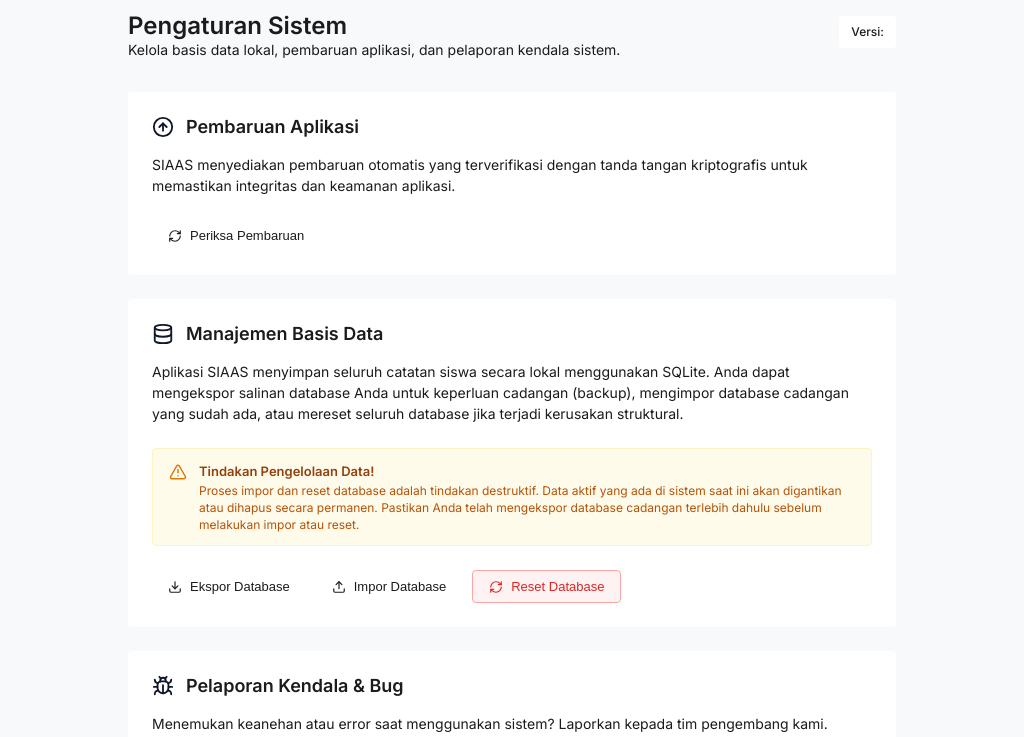
Test case: PengaturanView › shows error alert if database export fails in Tauri
Click the button with test id "export-db-button" at (229, 587), box left=152, top=570, right=306, bottom=603
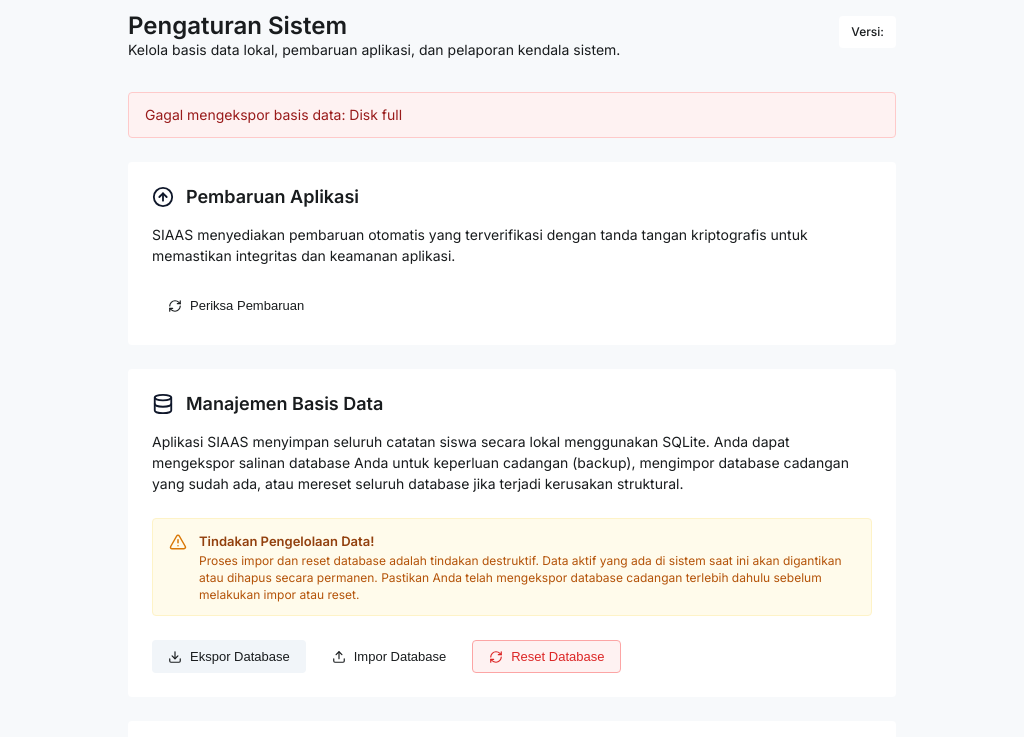
Expected: the text "Gagal mengekspor basis data: Disk full" is shown, left=128, top=92, right=896, bottom=138
